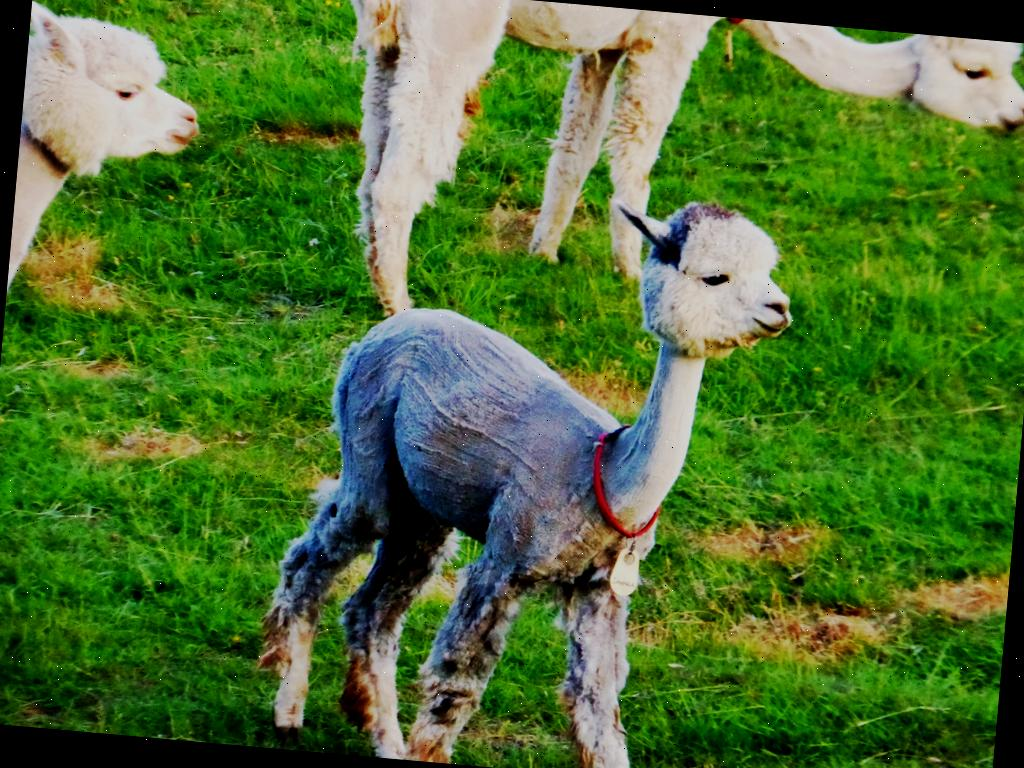Sheep: (243, 161, 816, 768), (317, 0, 1024, 375), (6, 3, 210, 302)
